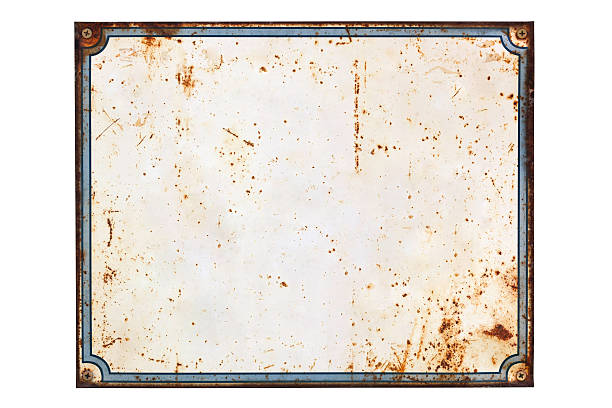rust: (424, 256, 538, 392), (501, 19, 544, 251), (75, 25, 202, 94), (344, 58, 394, 181), (98, 208, 129, 357), (76, 366, 109, 388)
